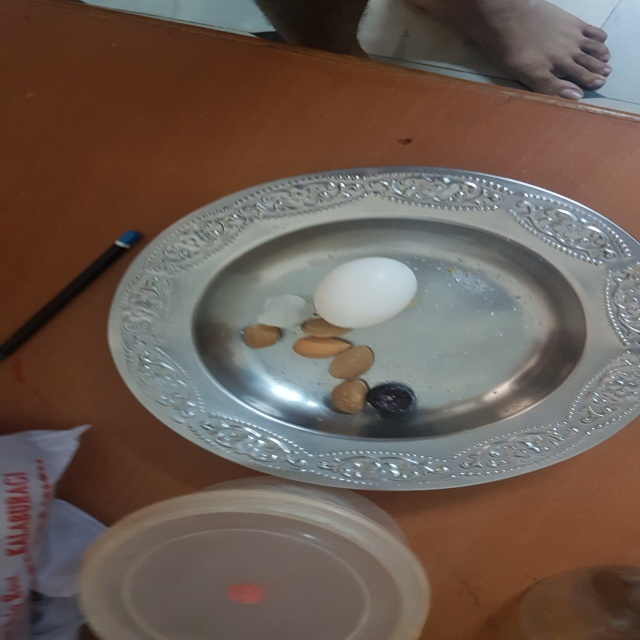eggs: (312, 256, 416, 329)
